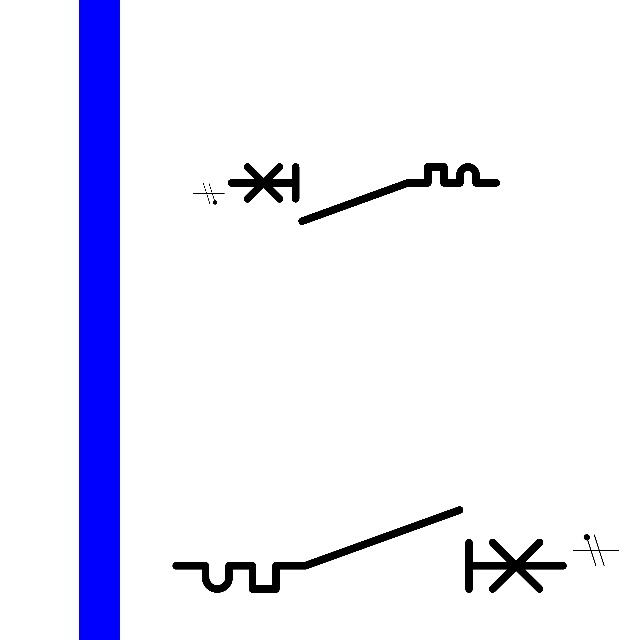interruptor_termomagnetico: (166, 500, 573, 599), (224, 160, 503, 228)
